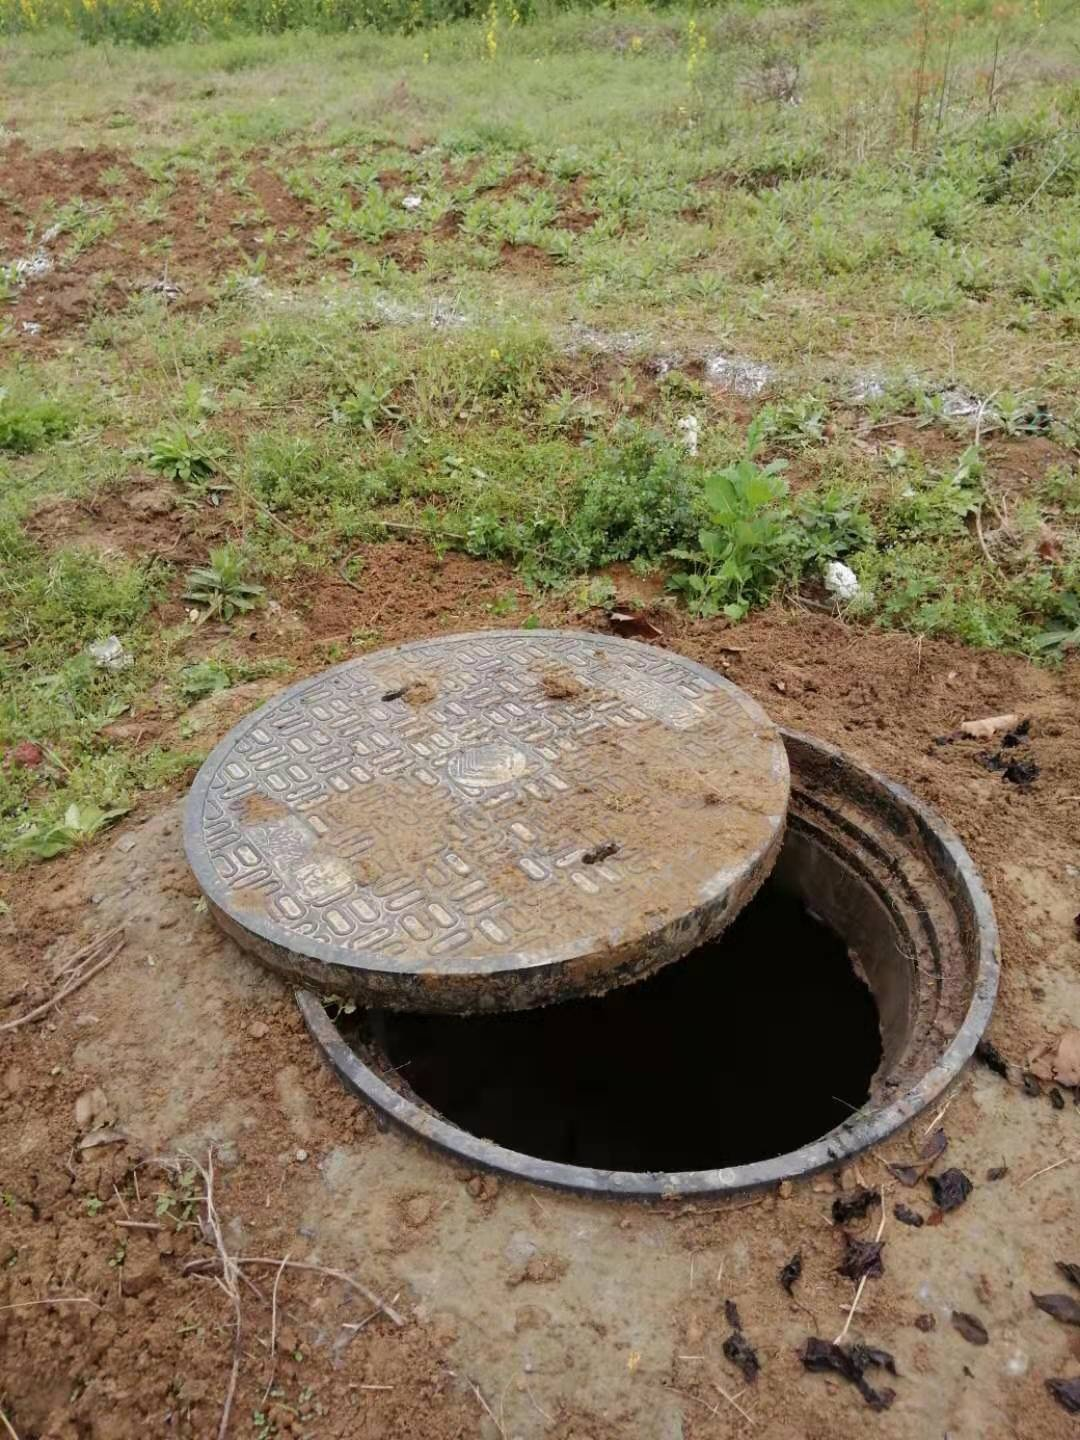well: (176, 622, 1009, 1202)
